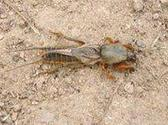pest: (44, 41, 139, 69)
